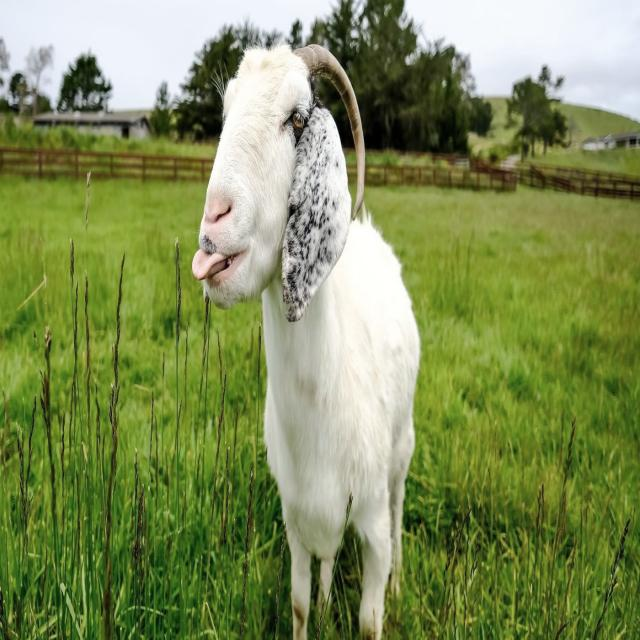goat: (192, 44, 420, 639)
